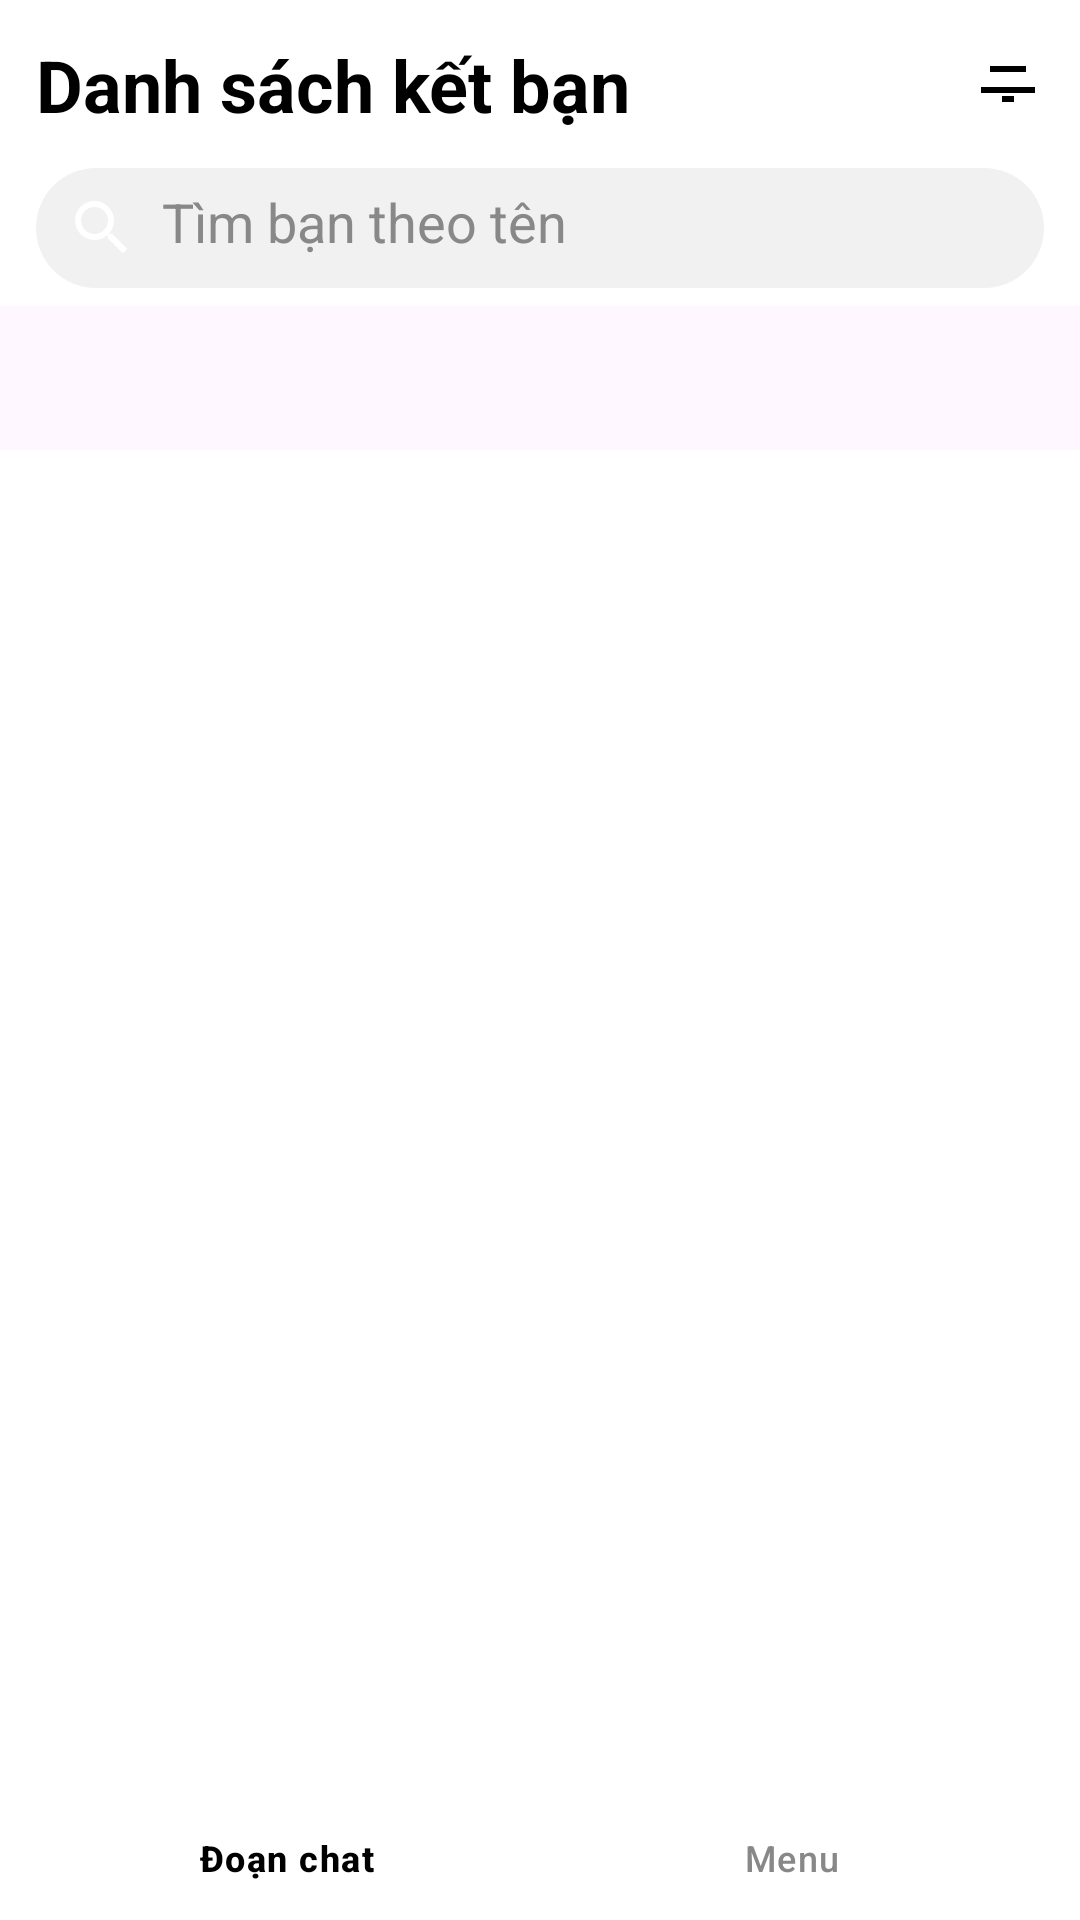

Where icons sit on this 1080 x 1920 app screen, as (x1, y1, x2, y2):
filter: (981, 66, 1035, 102)
